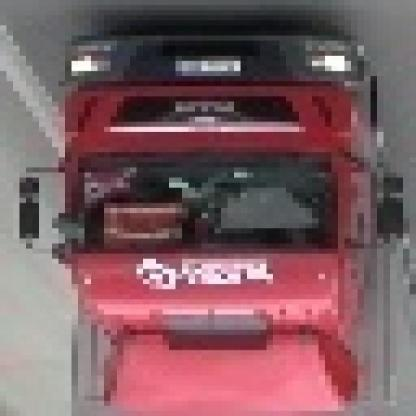truck: (20, 37, 416, 416)
